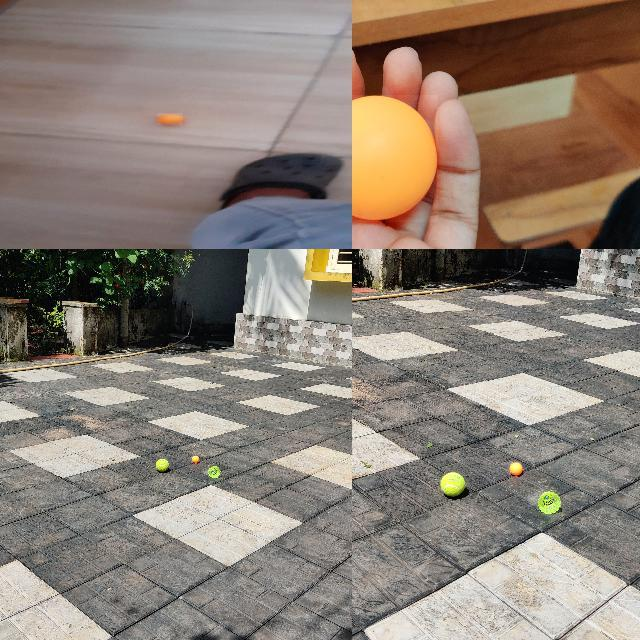ping-pong-ball: (352, 95, 440, 224), (158, 112, 184, 126), (510, 462, 522, 474), (191, 454, 199, 462)
